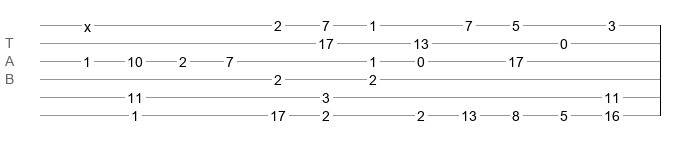0: (417, 54, 425, 64), (560, 36, 568, 46)
1: (83, 54, 91, 64), (131, 108, 139, 118), (369, 18, 377, 28), (369, 54, 377, 64)
10: (127, 54, 143, 64)
11: (127, 90, 143, 100), (604, 90, 620, 100)
13: (413, 36, 429, 46), (461, 108, 477, 118)
16: (604, 108, 620, 118)
17: (270, 108, 286, 118), (318, 36, 334, 46), (508, 54, 524, 64)
2: (179, 54, 187, 64), (274, 18, 282, 28), (274, 72, 282, 82), (322, 108, 330, 118), (369, 72, 377, 82), (417, 108, 425, 118)
3: (322, 90, 330, 100), (608, 18, 616, 28)
5: (512, 18, 520, 28), (560, 108, 568, 118)
7: (226, 54, 234, 64), (322, 18, 330, 28), (465, 18, 473, 28)
8: (512, 108, 520, 118)
x: (84, 19, 91, 27)
